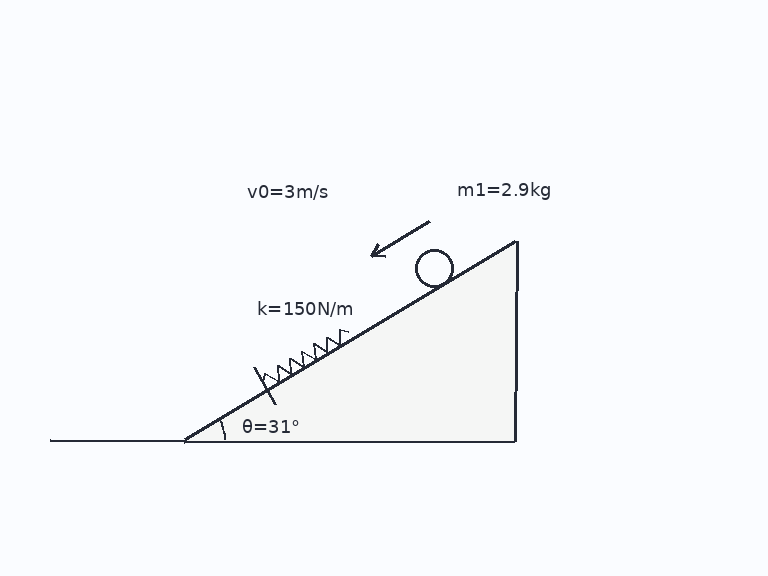ball: (413, 247, 455, 289)
ramp: (183, 240, 517, 442)
spring: (261, 327, 351, 385)
